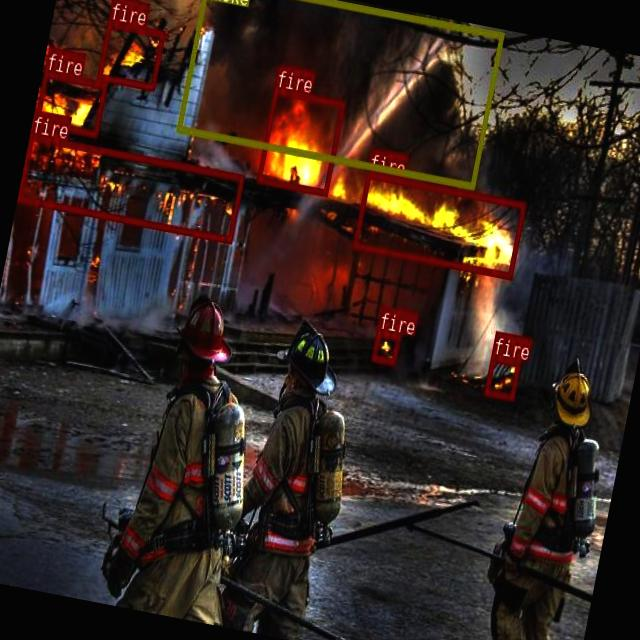fire: (18, 132, 244, 242), (352, 172, 526, 278), (256, 87, 346, 195), (34, 70, 108, 136), (96, 20, 164, 90), (484, 354, 520, 399), (371, 329, 400, 364)
smoke: (176, 0, 503, 188)
